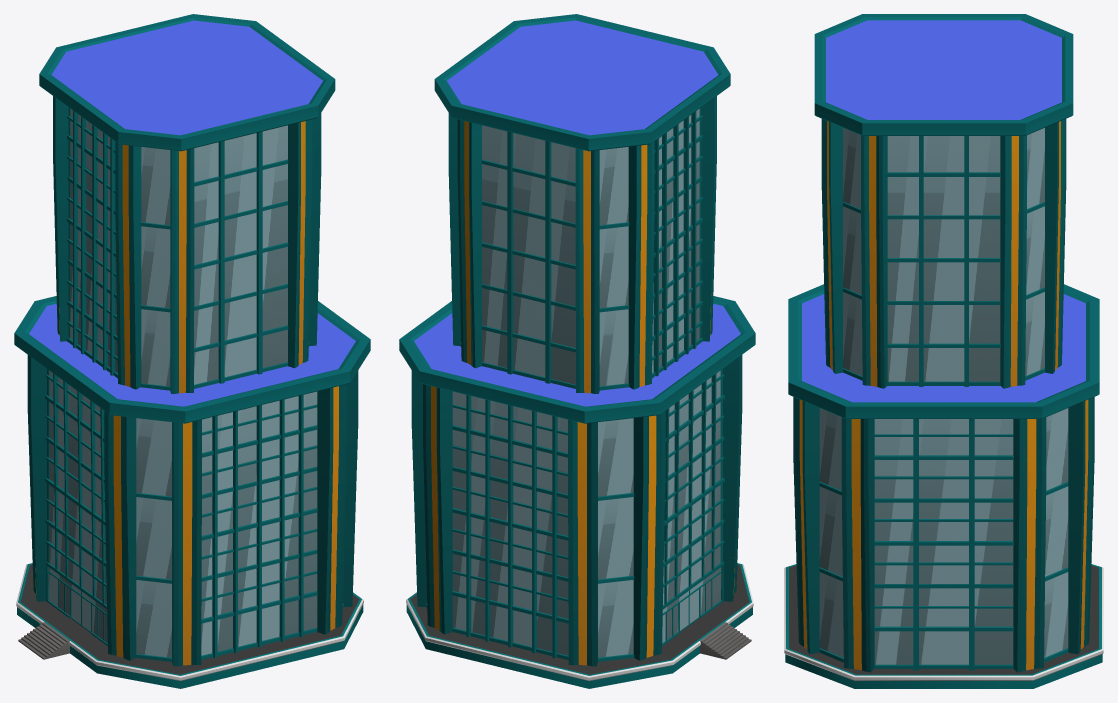
Rendered from Building_7_2_F.glb.
The picture shows the model from 3 angles, left to right: view 1: azimuth 30°, elevation 25°; view 2: azimuth 150°, elevation 25°; view 3: azimuth 270°, elevation 25°; orthographic projection. The views are drawn at different scales.
Visible parts, largest first — view 1: Building_7_2_F; view 2: Building_7_2_F; view 3: Building_7_2_F.
Part boxes in pixels (left/top/right/bottom): Building_7_2_F: left=14, top=14, right=370, bottom=688; Building_7_2_F: left=399, top=14, right=755, bottom=688; Building_7_2_F: left=784, top=14, right=1103, bottom=688.
Bounding box in the file's own units: 25.2 × 44.18 × 23.11.
Materials: 4 (4 with a texture image).
